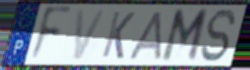A: (127, 10, 164, 62)
F: (27, 5, 74, 65)
K: (100, 9, 137, 61)
M: (159, 7, 210, 64)
S: (199, 8, 238, 64)
V: (72, 8, 108, 62)
